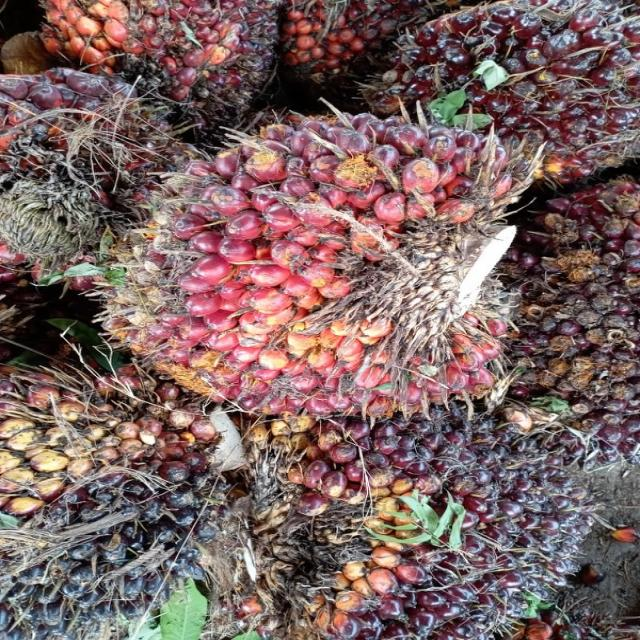fraksi 00: (210, 381, 606, 640)
fraksi 3: (69, 60, 564, 488)
